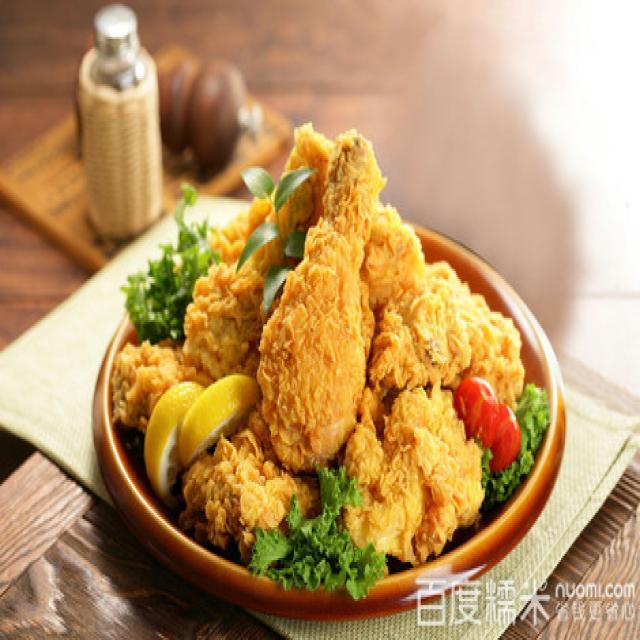Frango: (101, 108, 546, 546)
